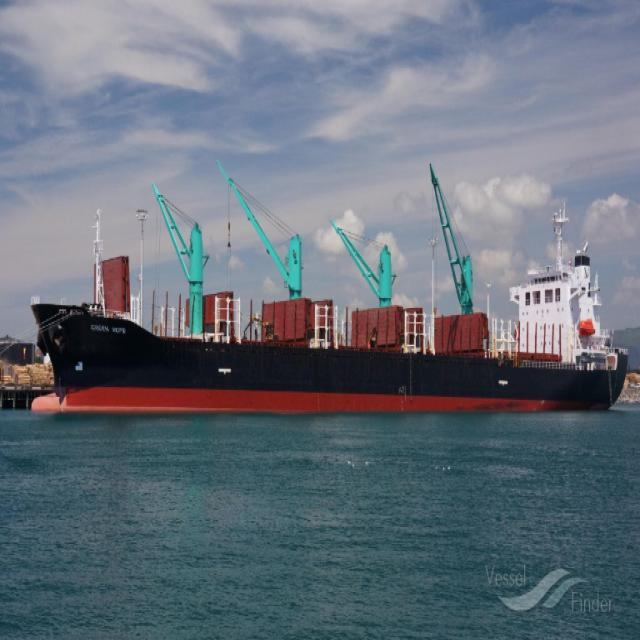OCR: (86, 314, 130, 340)
